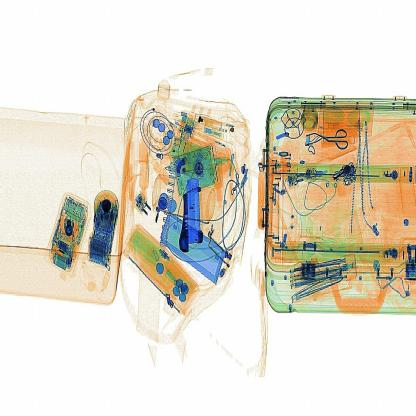pliers: (175, 172, 210, 259)
